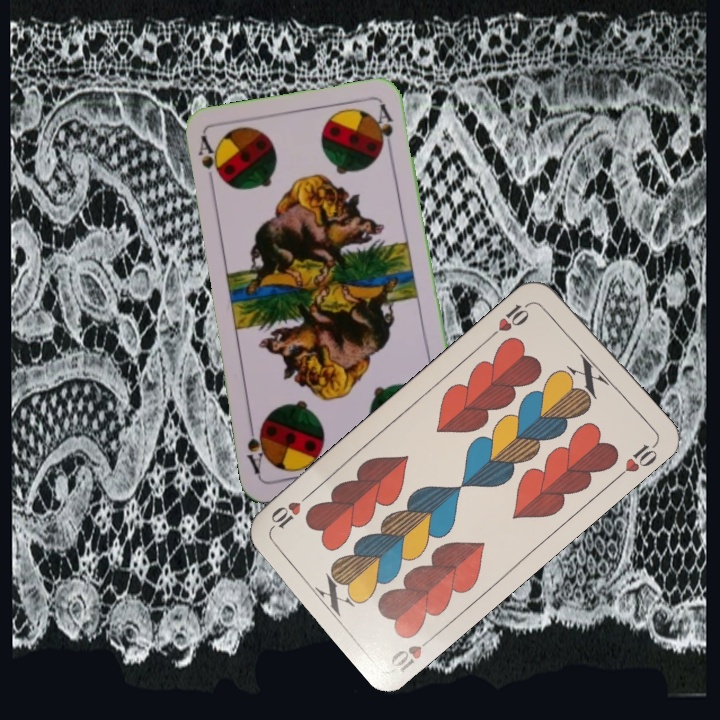H10: (385, 630, 439, 675), (487, 297, 536, 340)
SA: (193, 132, 222, 191)
